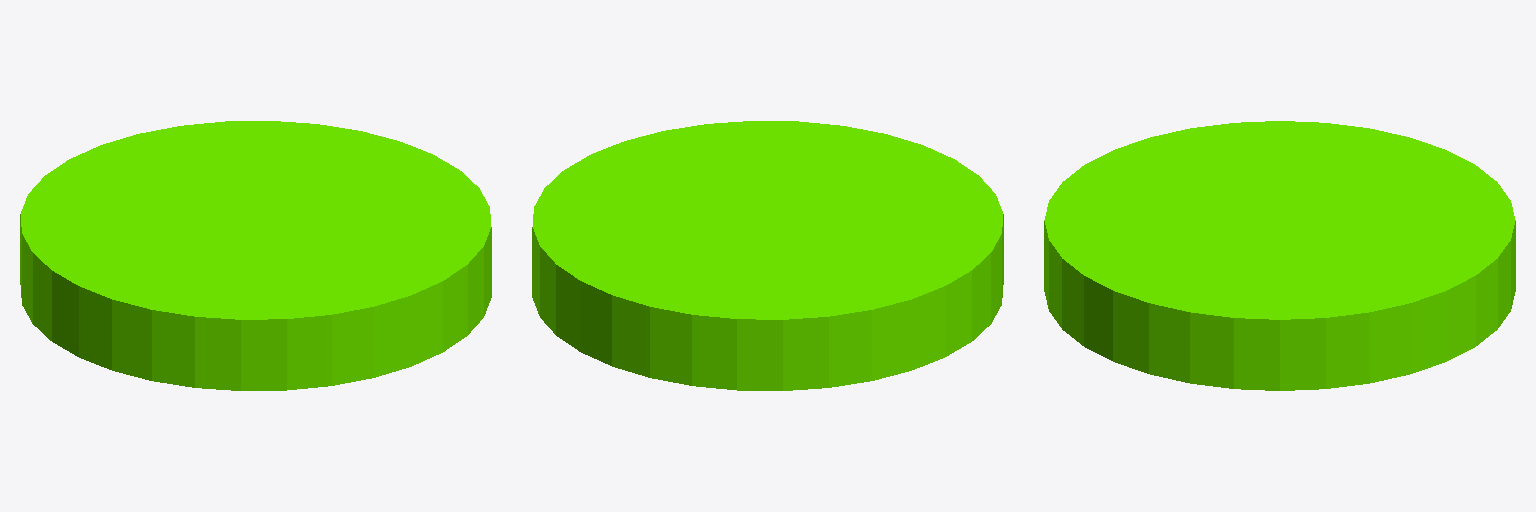
URDF robot description (cylinder goal):
<?xml version="1.0"?>
<robot name="cylinder goal">
    <!-- Colors -->
    <material name="lawngreen">
        <color rgba="0.486 0.988 0 0.75"/>
    </material>

    <!-- Goal -->
    <link name="base_link">
        <visual>
            <geometry>
                <cylinder radius="0.75" length="0.25"/>
                <origin rpy="0 0 0" xyz="0 0 0.5"/>
            </geometry>
            <material name="lawngreen"/>
        </visual>
        <collision>
             <geometry>
                <cylinder radius="0.75" length="0.25"/>
                <origin rpy="0 0 0" xyz="0 0 0.5"/>
            </geometry>
        </collision>

        <inertial>
            <mass value="0"/>
            <inertia ixx="0" ixy="0" ixz="0" iyy="0" iyz="0" izz="0"/>
        </inertial>

    </link>
</robot>

--- Render facts (derived) ---
3 views of the same robot in one strip: view 1: azimuth 30°, elevation 25°; view 2: azimuth 150°, elevation 25°; view 3: azimuth 270°, elevation 25° (orthographic).
Model cylinder goal with 1 links and 0 joints (none), rooted at base_link, posed every joint at zero.
Links seen in each view (by area): view 1: base_link; view 2: base_link; view 3: base_link.
Link boxes in pixels (<box>): base_link: <box>20,121,491,390</box>; base_link: <box>532,121,1003,390</box>; base_link: <box>1044,121,1515,390</box>.
Bounding box of the posed robot: 1.5 × 1.5 × 0.25 m (x, y, z).
Geometry: primitives only (box / cylinder / sphere), no mesh files.